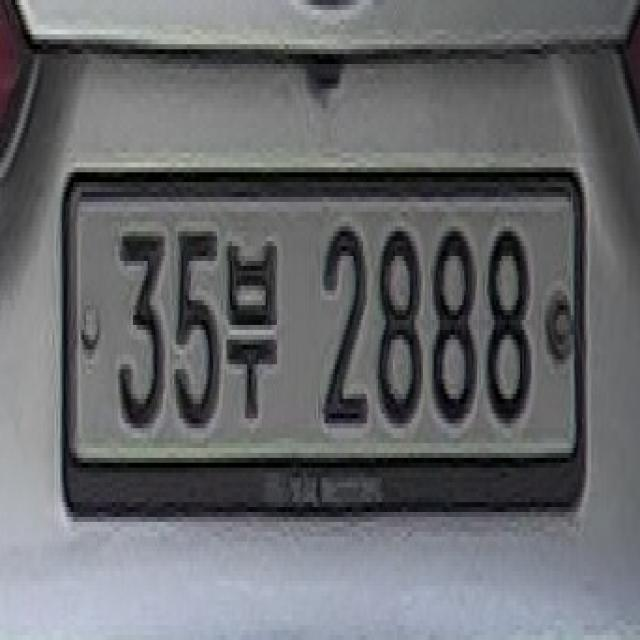2: (318, 222, 371, 438)
3: (116, 217, 170, 428)
5: (172, 226, 223, 434)
8: (427, 222, 479, 428), (483, 222, 533, 428), (374, 226, 423, 428)
bu: (221, 236, 279, 428)
license_plate: (60, 162, 578, 468)
